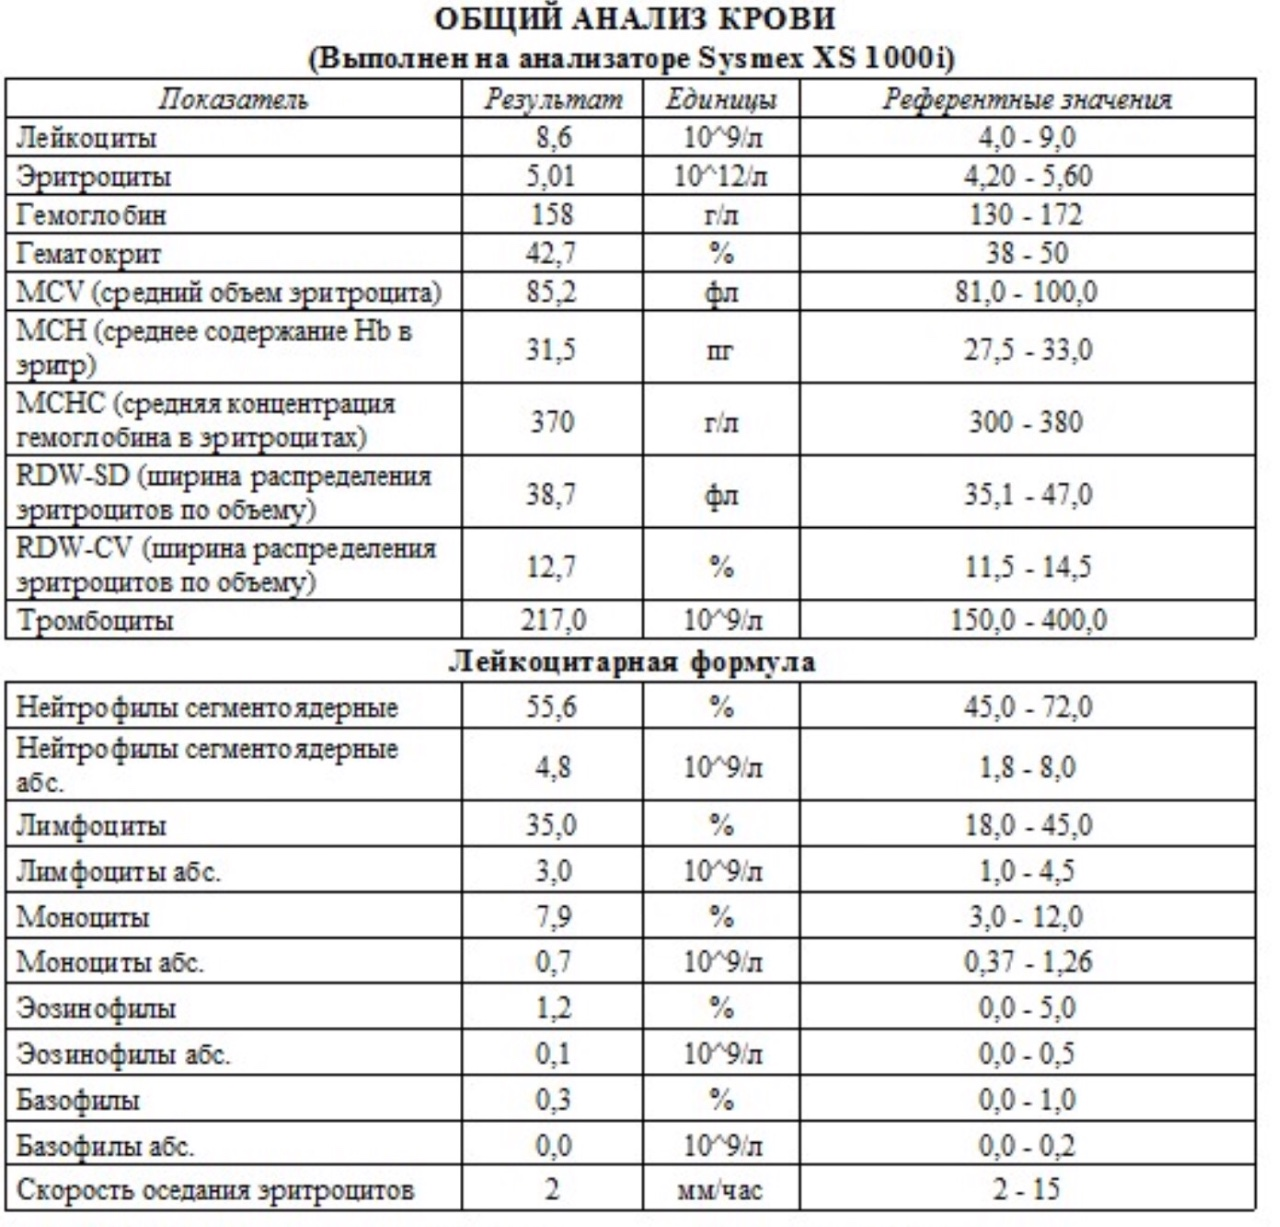column: (14, 78, 443, 637), (14, 682, 416, 1210), (881, 78, 1173, 637), (482, 78, 624, 637), (961, 682, 1094, 1210), (663, 78, 778, 637), (677, 682, 765, 1210), (525, 682, 579, 1210)
